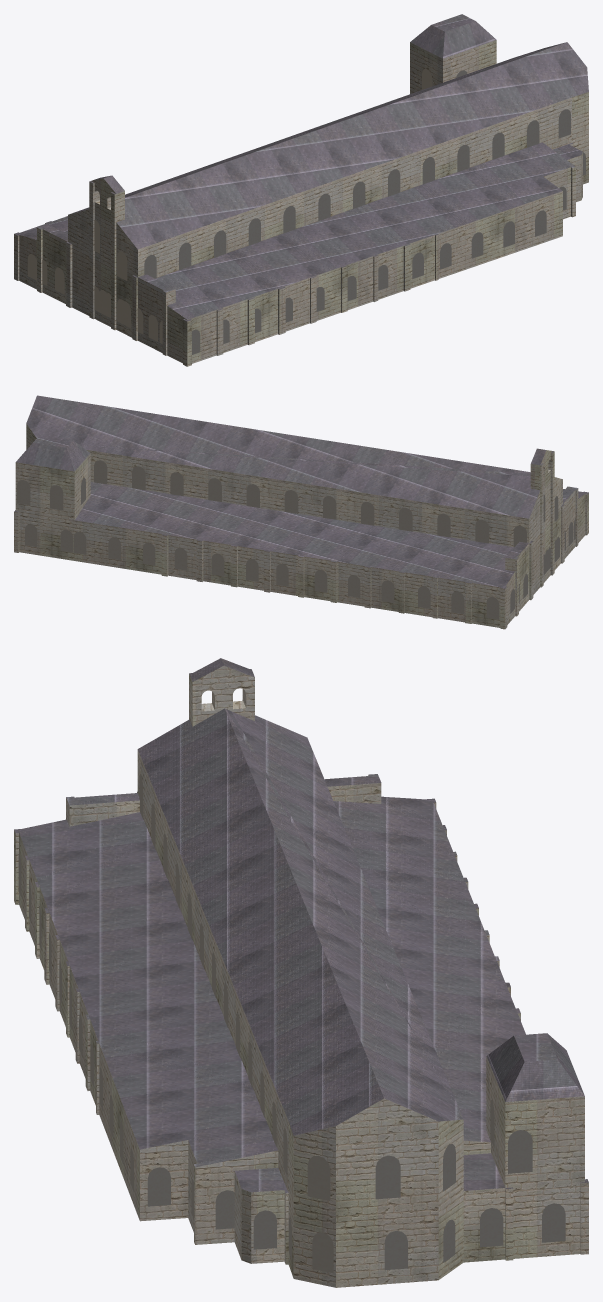
File: eglise-nouvelle-saint-honore-d-eylau.glb
3 renders of one model, top to bottom at view 1: azimuth 30°, elevation 25°; view 2: azimuth 150°, elevation 25°; view 3: azimuth 270°, elevation 25°, orthographic. The views are drawn at different scales.
Visible parts, largest first — view 1: roof, stone, window, trim; view 2: roof, stone, window, trim; view 3: roof, stone, window, trim.
Boxes of the visible parts, left/top/right/bottom form: roof: left=14, top=14, right=588, bottom=321; stone: left=14, top=40, right=588, bottom=366; window: left=27, top=69, right=585, bottom=354; trim: left=14, top=42, right=588, bottom=322; roof: left=14, top=395, right=588, bottom=588; stone: left=14, top=424, right=588, bottom=629; window: left=17, top=444, right=575, bottom=619; trim: left=14, top=433, right=588, bottom=590; roof: left=14, top=658, right=588, bottom=1193; stone: left=14, top=665, right=588, bottom=1287; window: left=18, top=774, right=565, bottom=1273; trim: left=16, top=752, right=588, bottom=1195.
Bounding box in the file's own units: 62.61 × 16 × 36.42.
Materials: 4 (4 with a texture image).
